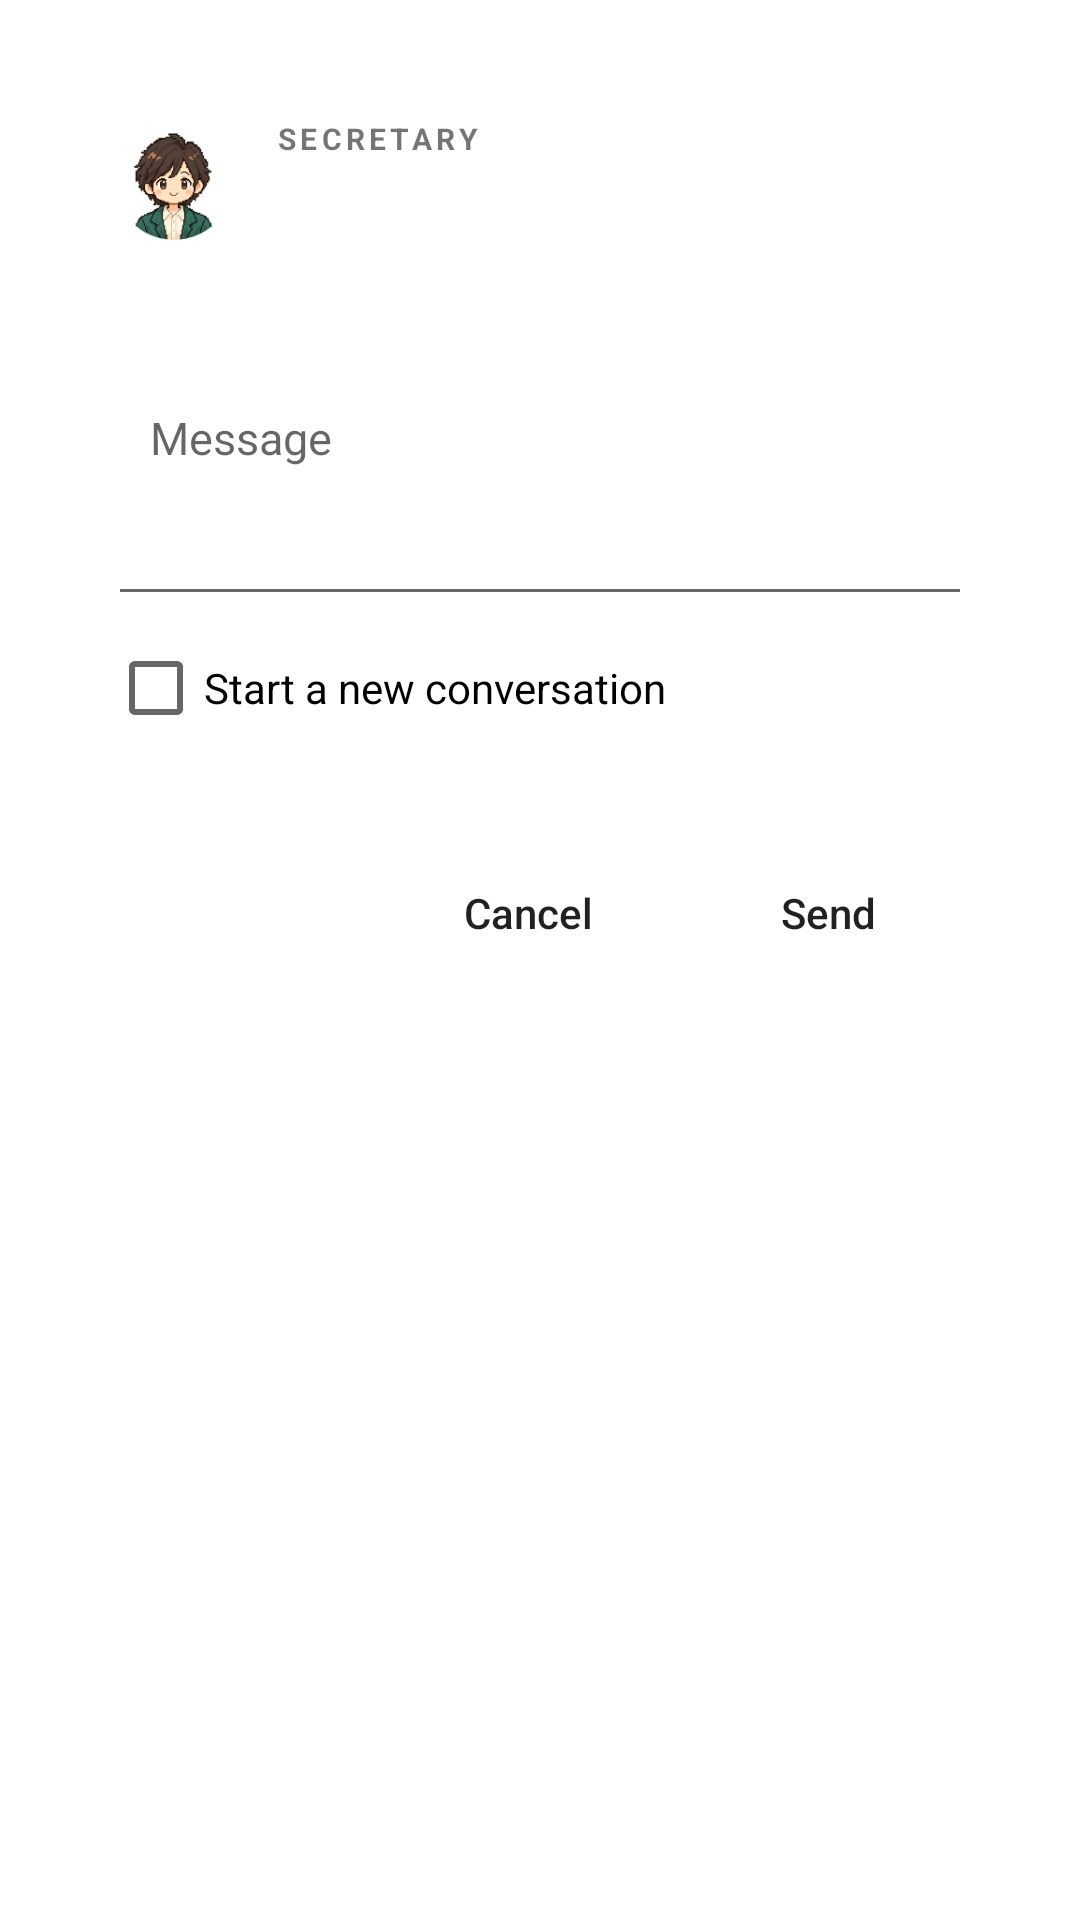

Where icons sit on this 1080 x 1920 app screen, as detection(x1, y1, x2, y2):
portrait: detection(134, 133, 192, 204)
